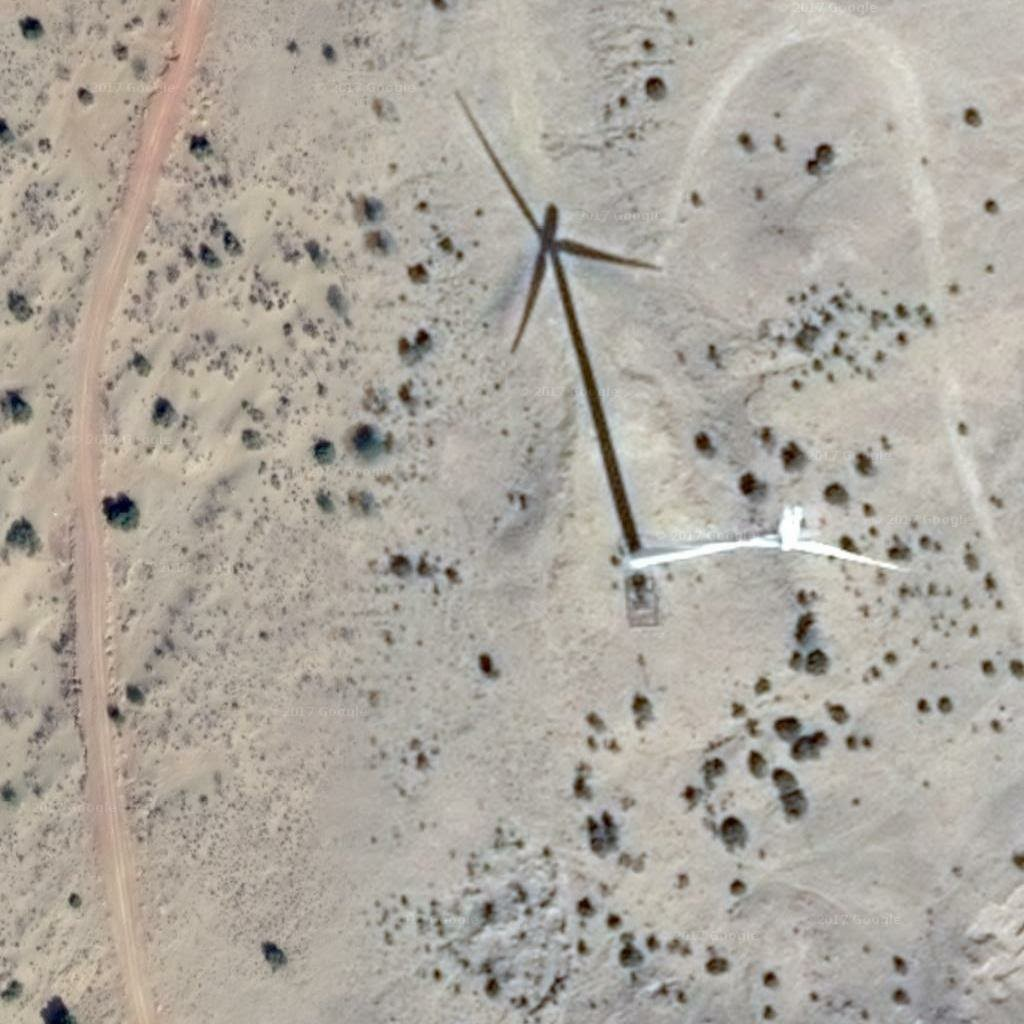Windmill: (451, 94, 657, 555)
